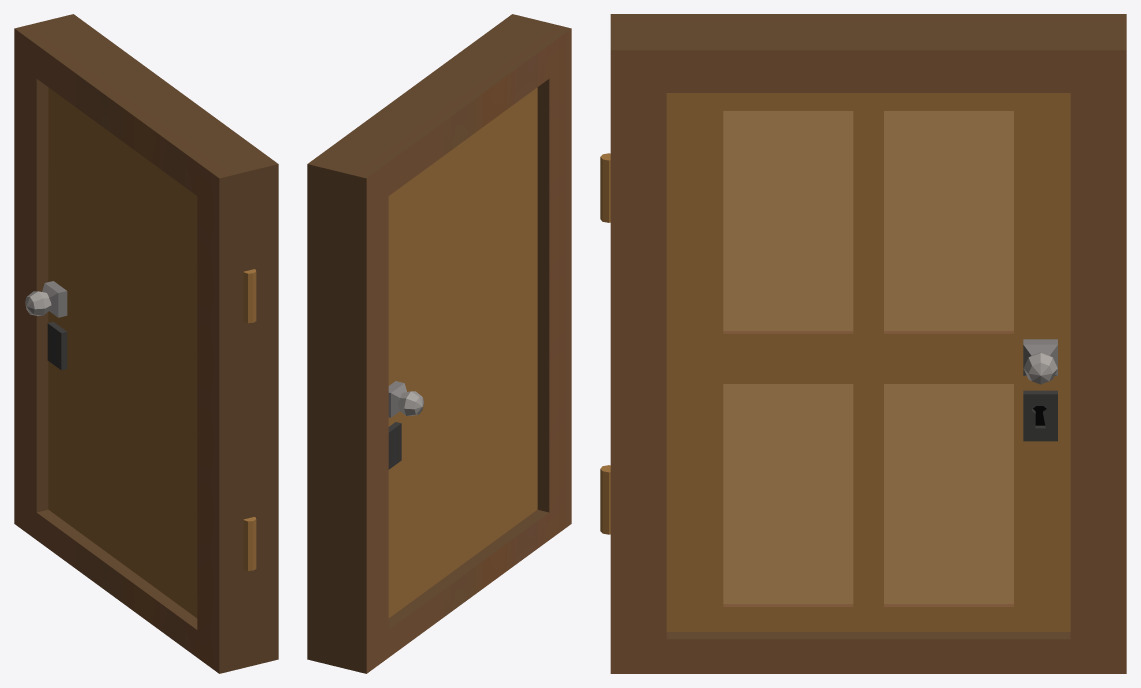
File: door.fbx
3 views of the same model, side by side, from view 1: azimuth 30°, elevation 25°; view 2: azimuth 150°, elevation 25°; view 3: azimuth 270°, elevation 25° (orthographic). The views are drawn at different scales.
Visible parts, largest first — view 1: Cube.012, Cube; view 2: Cube.012, Cube; view 3: Cube.012, Cube.
Part boxes in pixels (x1,y1,x2,y2): Cube.012: (14, 14, 278, 673); Cube: (25, 281, 67, 370); Cube.012: (307, 14, 571, 673); Cube: (388, 381, 423, 469); Cube.012: (600, 14, 1126, 673); Cube: (1023, 339, 1057, 441).
Bounding box in the file's own units: 87.31 × 400 × 306.
